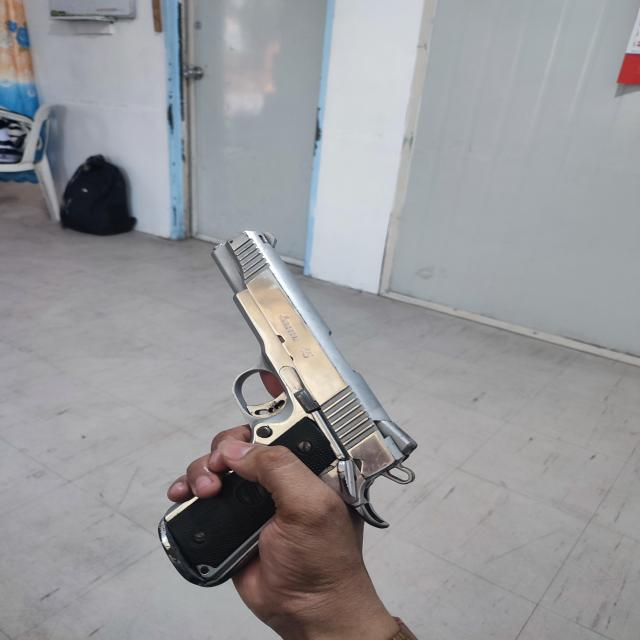pistol: (63, 230, 417, 587)
